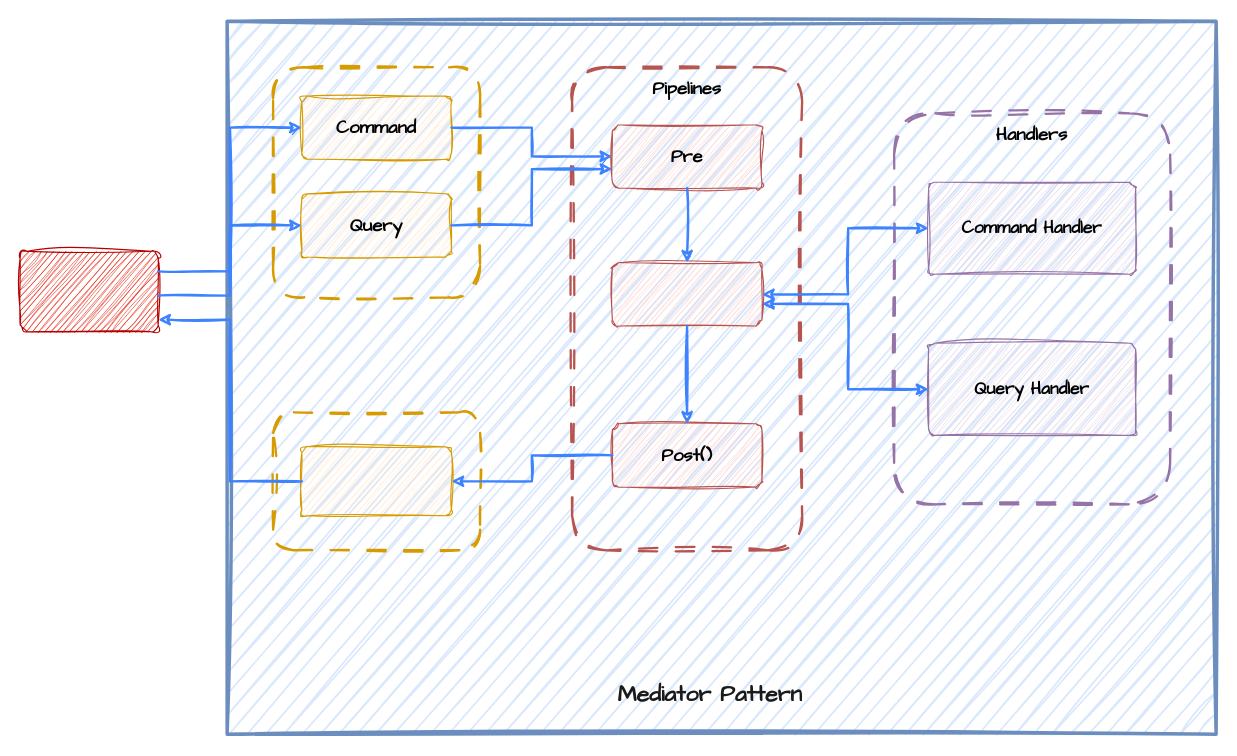
The diagram is 1237 pixels wide and 756 high, and some of its shapes have lost their labels. The centre of each missing label's shape, as x and y in pixels:
"Caller" belongs at point (88, 291).
"Next()" belongs at point (686, 294).
"Response" belongs at point (376, 481).
